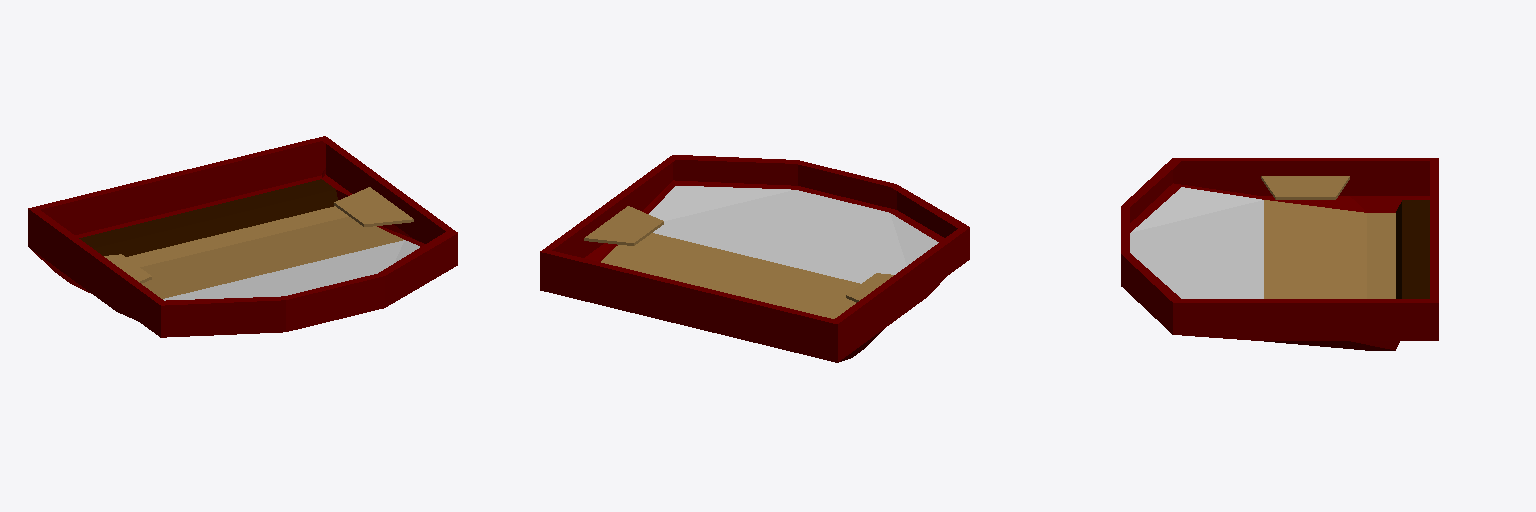
Rendered from concerthall.obj.
3 renders of one model, left to right at view 1: azimuth 30°, elevation 25°; view 2: azimuth 150°, elevation 25°; view 3: azimuth 270°, elevation 25°, orthographic.
Visible parts, largest first — view 1: Cube_Cube_Material.002, Cube_Cube_Material, Cube_Cube_Material.003, Cube_Cube_Material.001; view 2: Cube_Cube_Material.002, Cube_Cube_Material.001, Cube_Cube_Material; view 3: Cube_Cube_Material.002, Cube_Cube_Material, Cube_Cube_Material.001, Cube_Cube_Material.003.
Part boxes in pixels (left/top/right/bottom): Cube_Cube_Material.002: left=28, top=136, right=457, bottom=337; Cube_Cube_Material: left=104, top=187, right=413, bottom=298; Cube_Cube_Material.003: left=79, top=179, right=337, bottom=256; Cube_Cube_Material.001: left=163, top=240, right=419, bottom=300; Cube_Cube_Material.002: left=540, top=155, right=969, bottom=362; Cube_Cube_Material.001: left=649, top=186, right=938, bottom=283; Cube_Cube_Material: left=584, top=206, right=893, bottom=318; Cube_Cube_Material.002: left=1121, top=158, right=1438, bottom=350; Cube_Cube_Material: left=1261, top=176, right=1395, bottom=298; Cube_Cube_Material.001: left=1130, top=187, right=1263, bottom=298; Cube_Cube_Material.003: left=1396, top=200, right=1429, bottom=298.
Bounding box in the file's own units: 19.4 × 3.22 × 17.9.